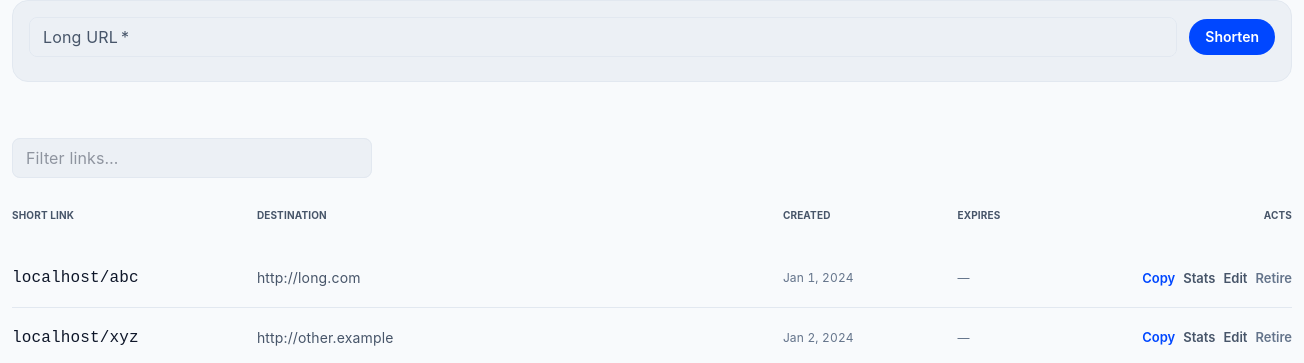
DashboardPage › narrowing › states the honest empty when the fragment matches nothing
The width and height of the screenshot is (1304, 363).
Check: the element with test id "link-row-abc" is shown, box [12,265,1292,291]
Type "nomatch" into the field with test id "narrow-links".
click(192, 158); type("nomatch")  # box [12,138,372,178]
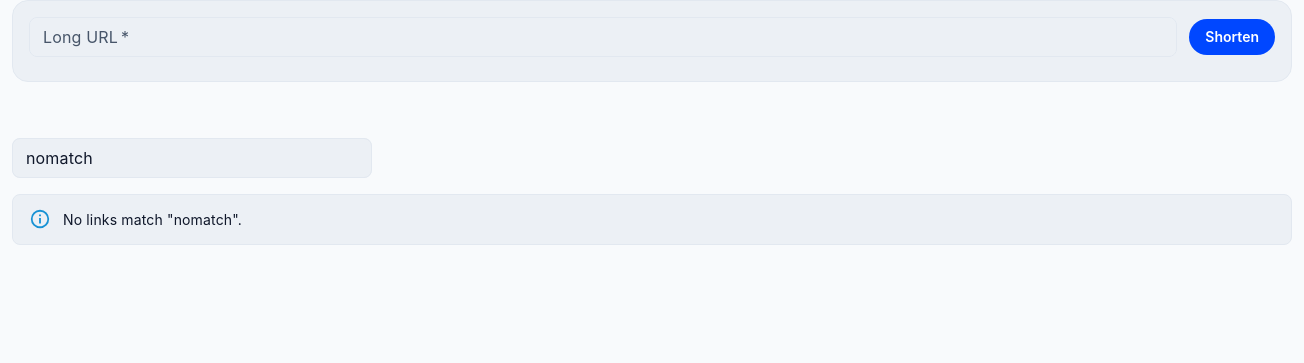
Check: the message "No links match \"nomatch\"." is shown, box [12,194,1292,245]
Check: the message with test id "narrowed-empty" shows "nomatch", box [63,211,242,228]
